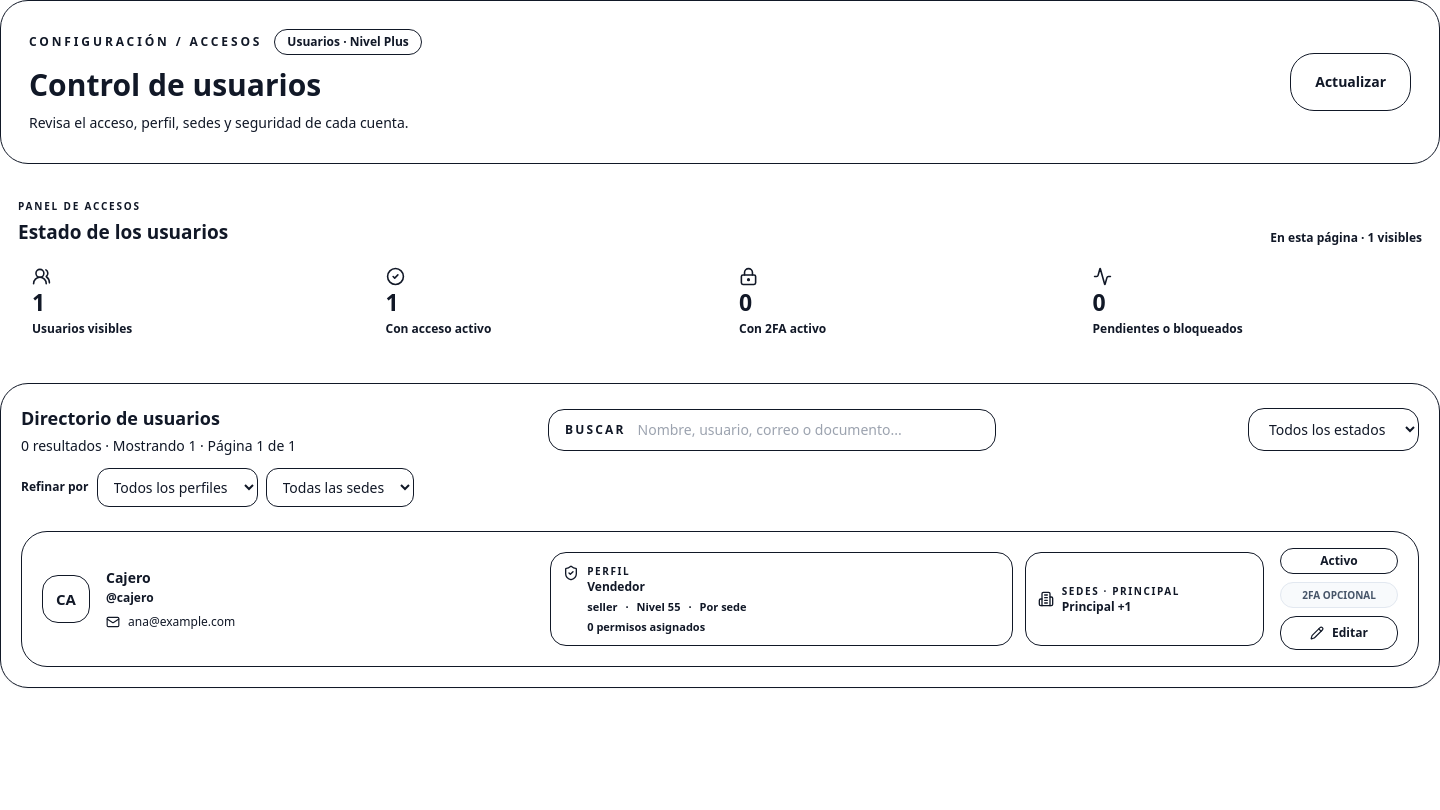
Test: Usuarios: separación de acciones › con permiso de edición puede cambiar datos, pero no el perfil, la sede o el estado
Click the button "Editar" at (1339, 633), box [1280, 616, 1398, 650]
(page scrolled)
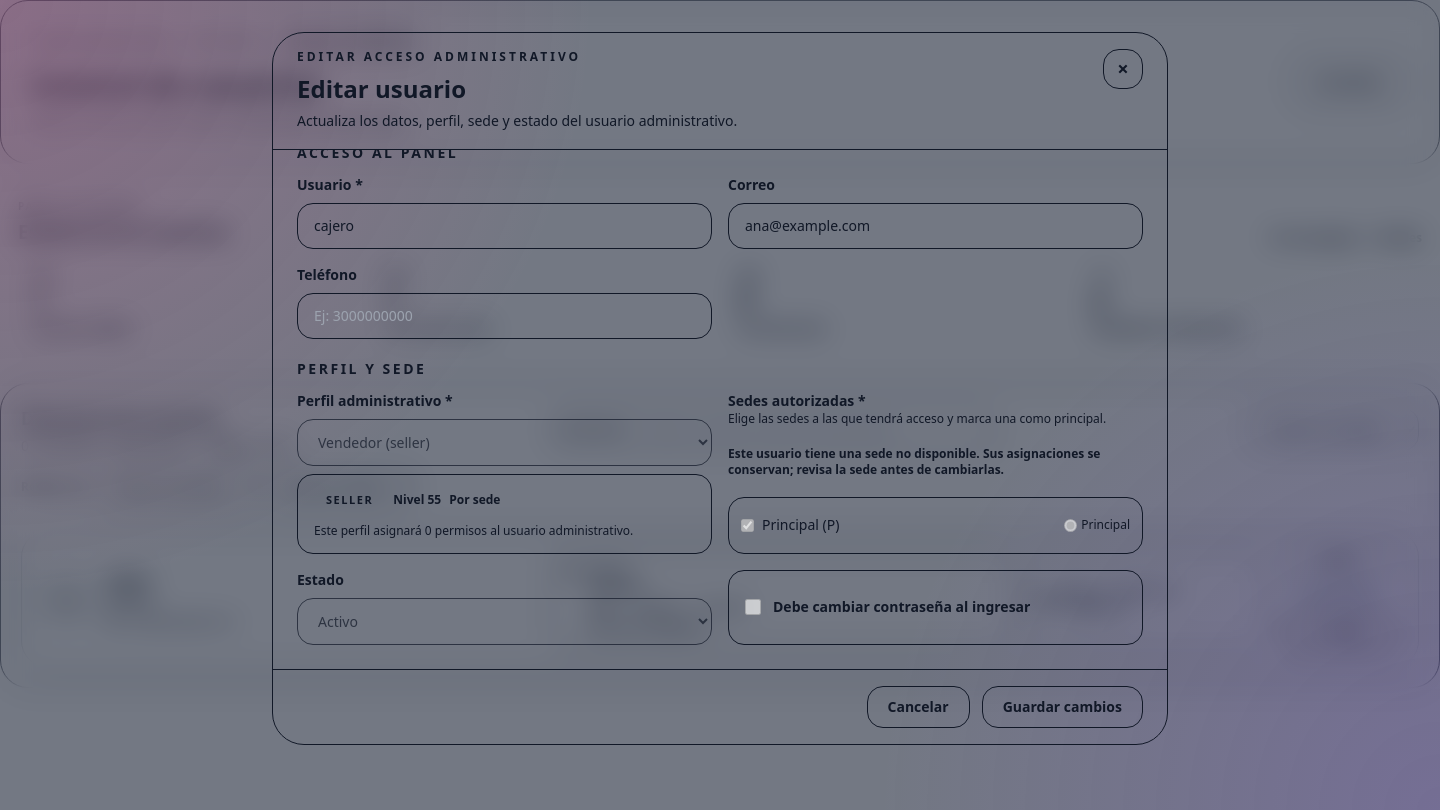
Check: the dropdown named "perfil administrativo" is disabled, box [297, 419, 712, 466]
Check: the element "Sedes autorizadas" is disabled, box [728, 391, 1143, 554]
Check: the dropdown labelled "Estado" is disabled, box [297, 598, 712, 645]
